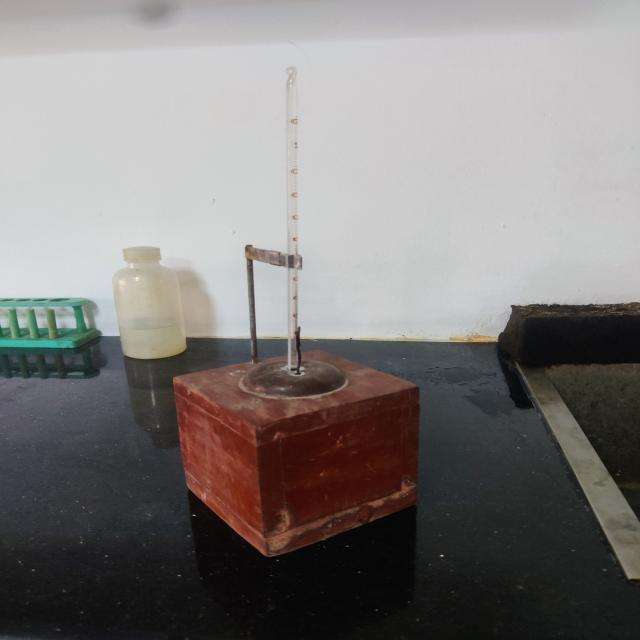Calorimeter: (144, 38, 472, 584)
